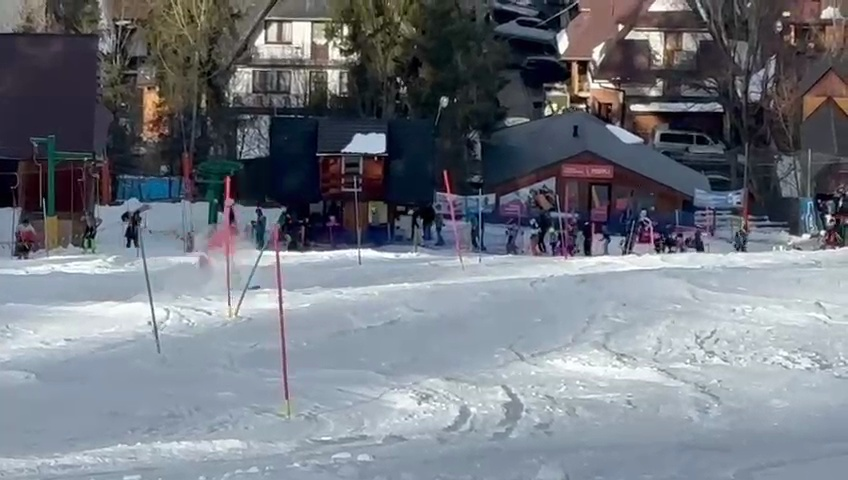gate: (265, 218, 301, 420), (132, 227, 168, 358), (230, 221, 273, 320), (3, 161, 36, 268), (218, 172, 240, 319), (441, 166, 464, 272), (175, 155, 194, 245), (348, 172, 365, 270)
